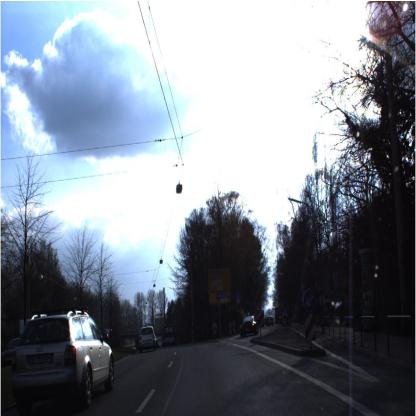mandatory: (298, 286, 320, 316)
